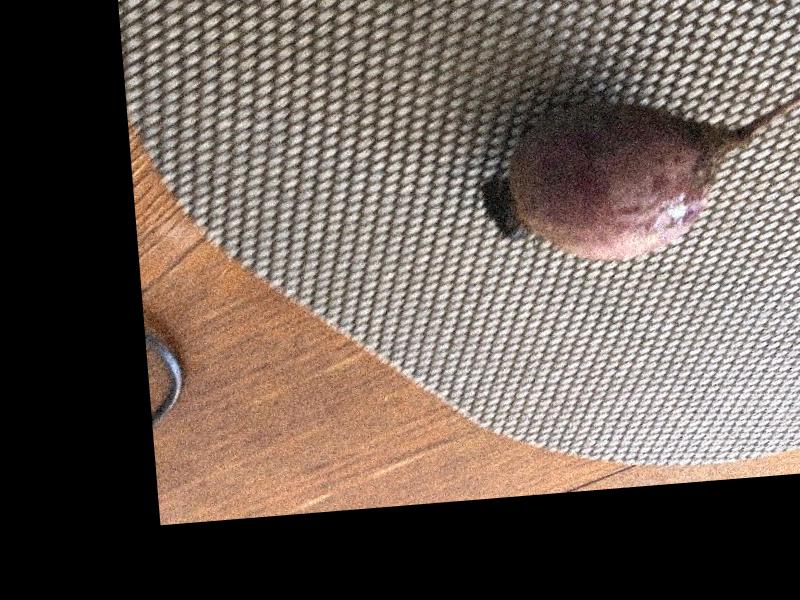Beet: (471, 48, 800, 269)
